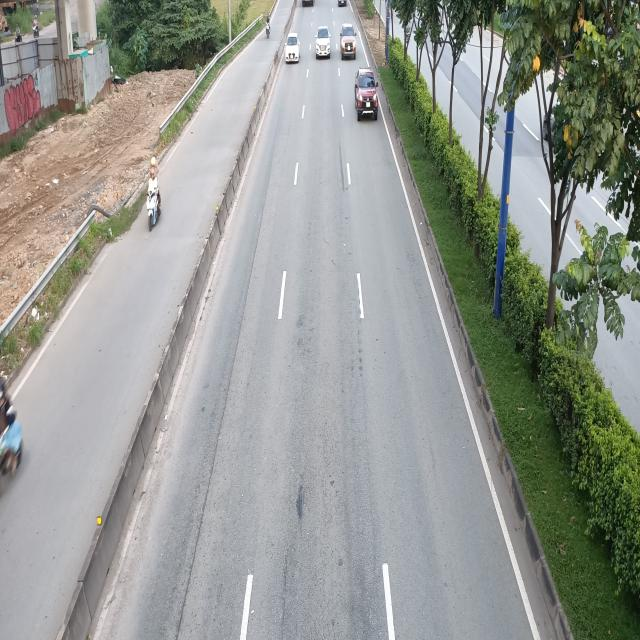car: (354, 69, 378, 121), (314, 24, 332, 58), (341, 22, 358, 58), (284, 31, 300, 62)
